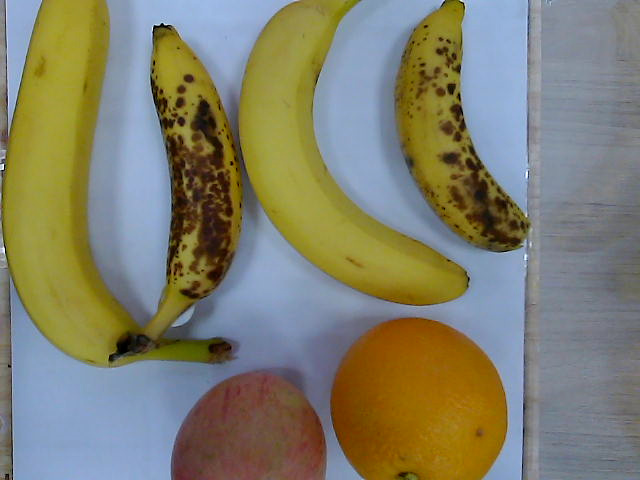fresh_apple: (170, 370, 328, 480)
fresh_banana: (238, 3, 471, 308), (1, 1, 144, 365)
fresh_orange: (331, 317, 510, 480)
rotten_banana: (120, 23, 241, 339), (396, 1, 533, 252)
